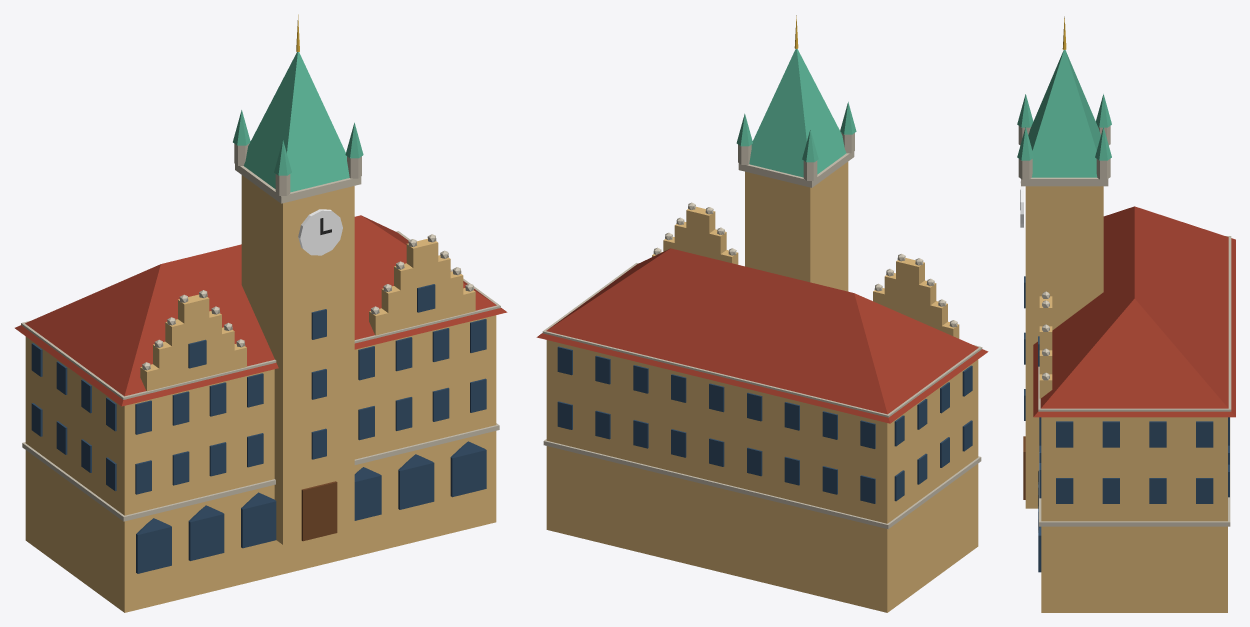
The model's file is townhall.glb.
The picture shows the model from 3 angles, left to right: view 1: azimuth 30°, elevation 25°; view 2: azimuth 150°, elevation 25°; view 3: azimuth 270°, elevation 25°; orthographic projection. The views are drawn at different scales.
Visible parts, largest first — view 1: TownHall; view 2: TownHall; view 3: TownHall.
Part boxes in pixels (box(x1,y1,x2,y2)): TownHall: box(15, 14, 507, 612); TownHall: box(536, 15, 988, 612); TownHall: box(1017, 16, 1235, 612).
Size of the model in its own units: 27 by 36.4 by 14.05.
